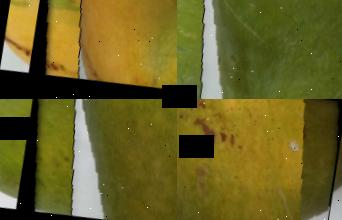PartiallyRipe: (177, 99, 342, 220)
Ripe: (26, 0, 177, 99)
Unripe: (13, 99, 177, 220), (177, 0, 342, 99)
